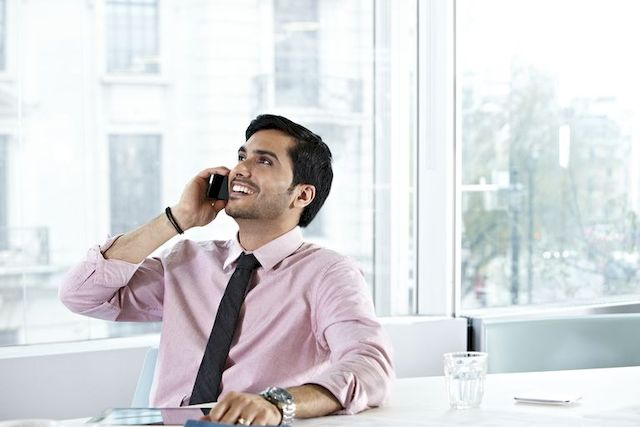phone: (200, 162, 232, 206)
talk: (185, 144, 281, 230)
